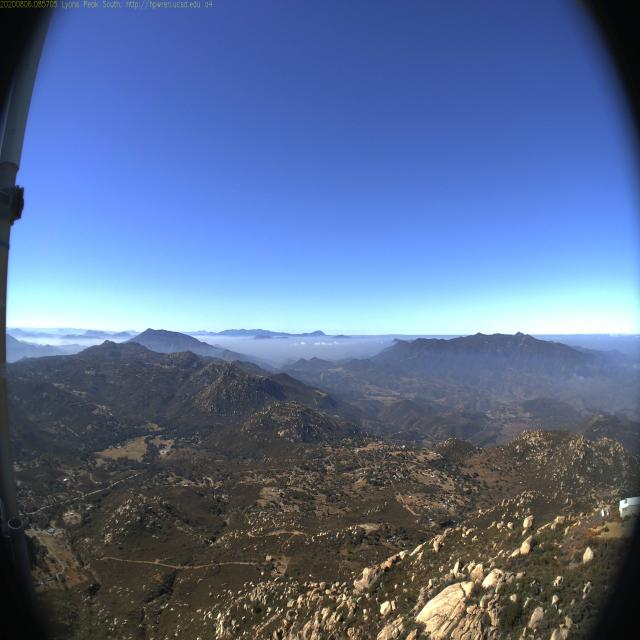smoke: (208, 340, 217, 351)
